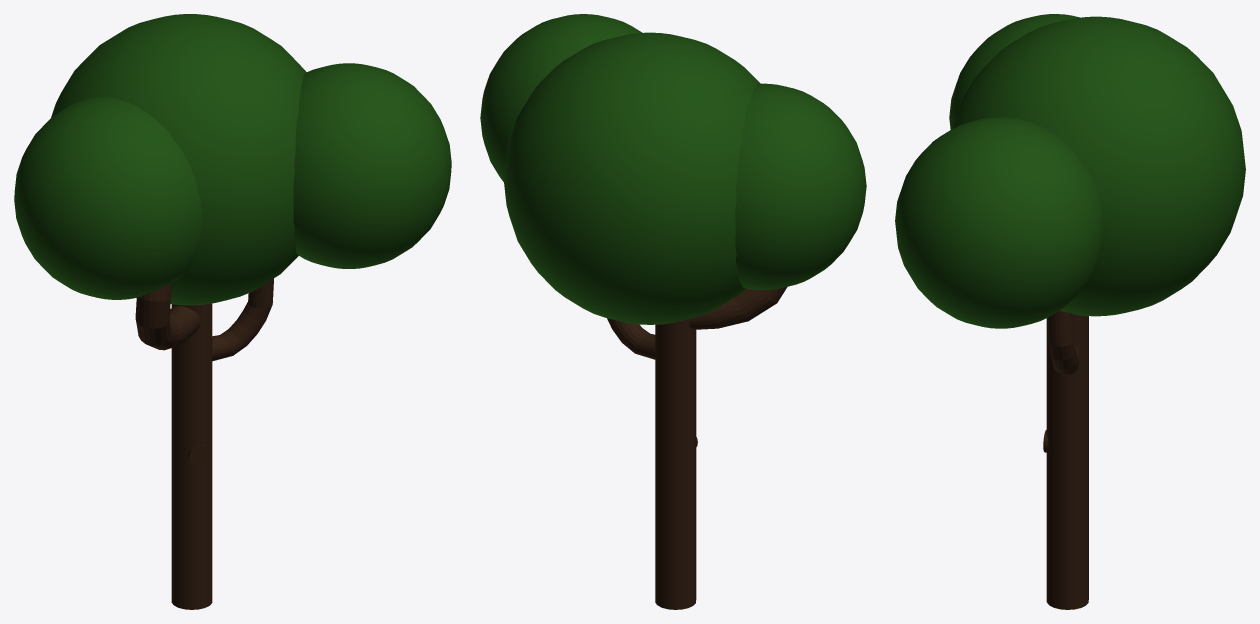
Rendered from Árbol 2.fbx.
3 renders of one model, left to right at view 1: azimuth 30°, elevation 25°; view 2: azimuth 150°, elevation 25°; view 3: azimuth 270°, elevation 25°, orthographic. The views are drawn at different scales.
Visible parts, largest first — view 1: Árbol 2; view 2: Árbol 2; view 3: Árbol 2.
Part boxes in pixels (<box>): Árbol 2: <box>14,14,451,609</box>; Árbol 2: <box>480,14,866,609</box>; Árbol 2: <box>895,14,1245,609</box>.
Size of the model in its own units: 167 by 233 by 129.
